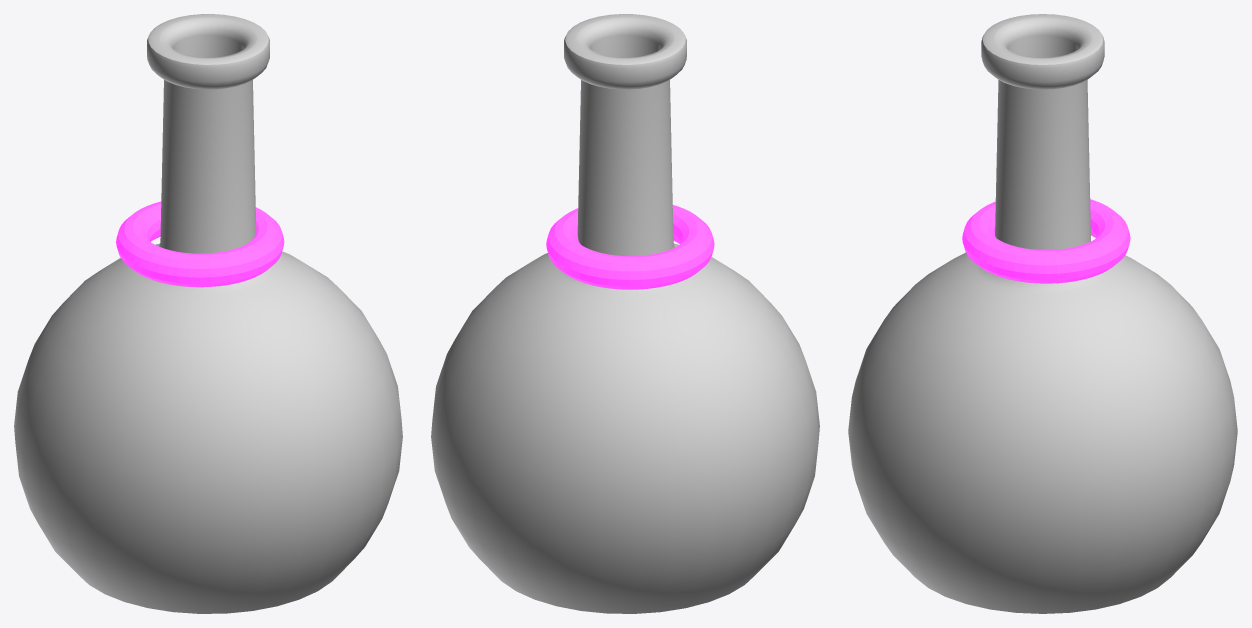
File: mid project potion vial.fbx
3 views of the same model, side by side, from view 1: azimuth 30°, elevation 25°; view 2: azimuth 150°, elevation 25°; view 3: azimuth 270°, elevation 25° (orthographic).
Visible parts, largest first — view 1: Sphere, Torus; view 2: Sphere, Torus; view 3: Sphere, Torus.
Boxes of the visible parts, x1,y1,x2,y2 form: Sphere: (14,14,402,613); Torus: (116,201,284,287); Sphere: (431,14,819,613); Torus: (546,205,714,289); Sphere: (848,14,1237,613); Torus: (962,199,1130,283).
Bounding box in the file's own units: 361 × 536 × 361.
